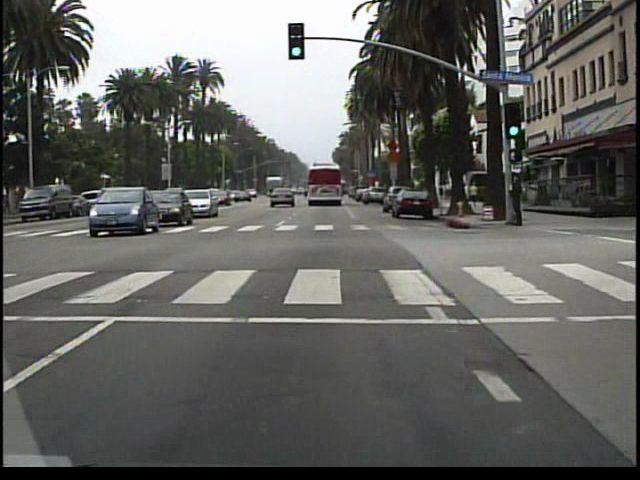person: (507, 172, 527, 229)
